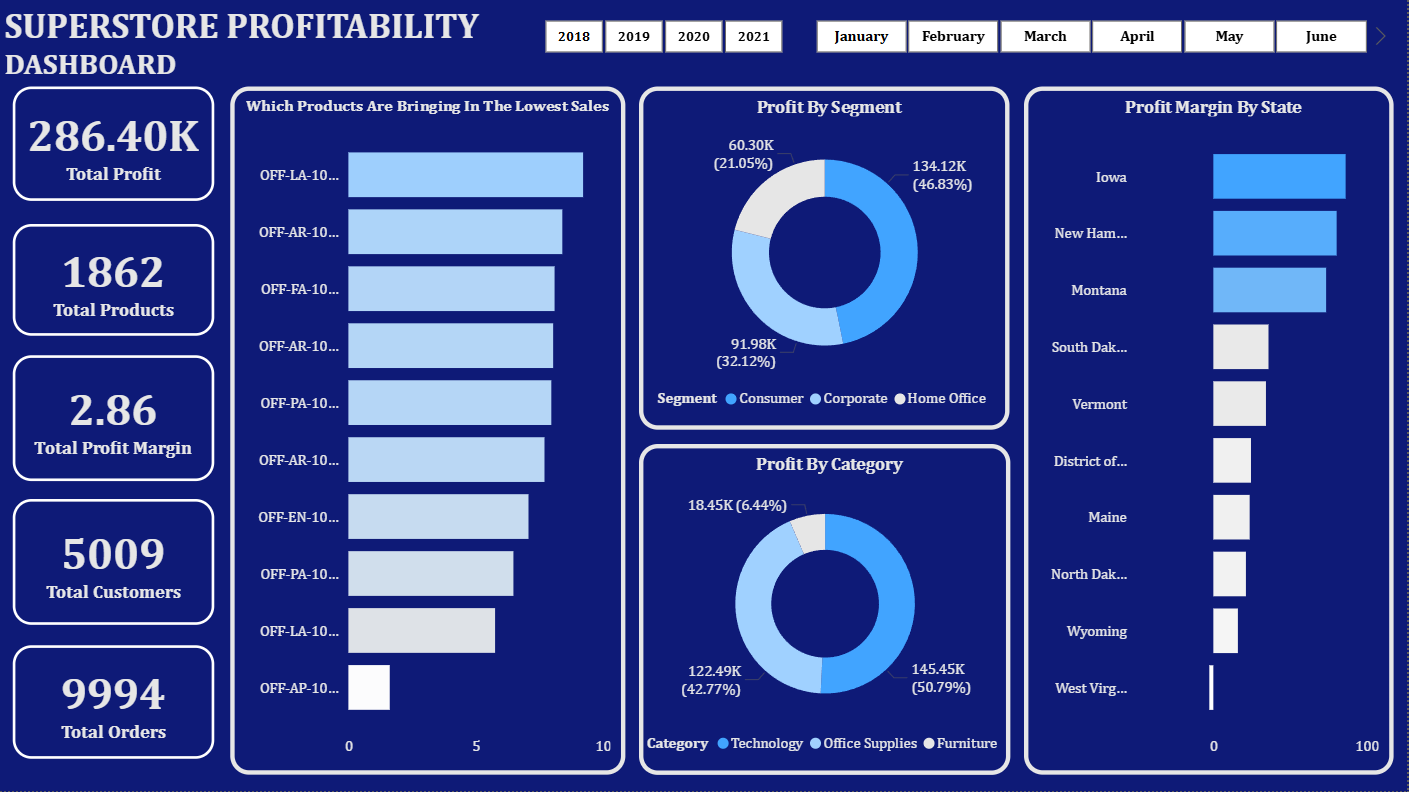

Layout of this report page (visuals, bound fields, positions):
{"tool":"powerbi","page":{"name":"Page 1","canvas":[1280,720],"ordinal":3},"visuals":[{"type":"donutChart","title":"Profit By Category","fields":{"Category":["Orders.Category"],"Y":["Sum(Orders.Profit)"]},"box":[581.8,404.8,337.6,300.5],"z":0},{"type":"barChart","title":"Profit Margin By State","fields":{"Y":["Sum(Orders.Profit Margin)"],"Category":["Orders.State"]},"box":[931.7,79.6,336.2,625.7],"z":1000},{"type":"clusteredBarChart","title":"Which Products Are Bringing In The Lowest Sales","fields":{"Category":["Orders.Product ID"],"Y":["Sum(Orders.Sales)"]},"box":[209.9,79.6,359.5,625.7],"z":2000},{"type":"donutChart","title":"Profit By Segment","fields":{"Category":["Orders.Segment"],"Y":["Sum(Orders.Profit)"]},"box":[582,80,337,312],"z":3000},{"type":"slicer","fields":{"Values":["Orders.Order Date.Variation.Date Hierarchy.Month"]},"box":[717,12.5,551.1,43.2],"z":4000},{"type":"slicer","fields":{"Values":["Orders.Order Date.Variation.Date Hierarchy.Year"]},"box":[470,12.9,265.7,42.9],"z":5000},{"type":"card","fields":{"Values":["Sum(Orders.Profit)"]},"box":[12.9,80,182.9,104.3],"z":6000},{"type":"card","fields":{"Values":["Median(Orders.Profit Margin)"]},"box":[12.9,324.3,182.9,114.3],"z":7000},{"type":"card","fields":{"Values":["Count(Orders.Product ID)"]},"box":[12.9,204.3,182.9,101.4],"z":8000},{"type":"card","fields":{"Values":["CountNonNull(Orders.Order ID)"]},"box":[12.9,587.1,182.9,102.9],"z":9000},{"type":"textbox","box":[0,0,460,80],"z":10000},{"type":"card","fields":{"Values":["Count(Orders.Order ID)"]},"box":[12.9,454.3,182.9,114.3],"z":11000}]}

Visuals, with their boxes in screenshot pixels (x1, y1, x2, y2), scaled from the page's 1280x720 canvas onto the 1409x792 screenshot:
"Profit By Category" donutChart: detection(640, 445, 1012, 776)
"Profit Margin By State" barChart: detection(1026, 88, 1396, 776)
"Which Products Are Bringing In The Lowest Sales" clusteredBarChart: detection(231, 88, 627, 776)
"Profit By Segment" donutChart: detection(641, 88, 1012, 431)
slicer - Orders.Order Date.Variation.Date Hierarchy.Month: detection(789, 14, 1396, 61)
slicer - Orders.Order Date.Variation.Date Hierarchy.Year: detection(517, 14, 810, 61)
card - Sum(Orders.Profit): detection(14, 88, 216, 203)
card - Median(Orders.Profit Margin): detection(14, 357, 216, 482)
card - Count(Orders.Product ID): detection(14, 225, 216, 336)
card - CountNonNull(Orders.Order ID): detection(14, 646, 216, 759)
textbox: detection(0, 0, 506, 88)
card - Count(Orders.Order ID): detection(14, 500, 216, 625)
